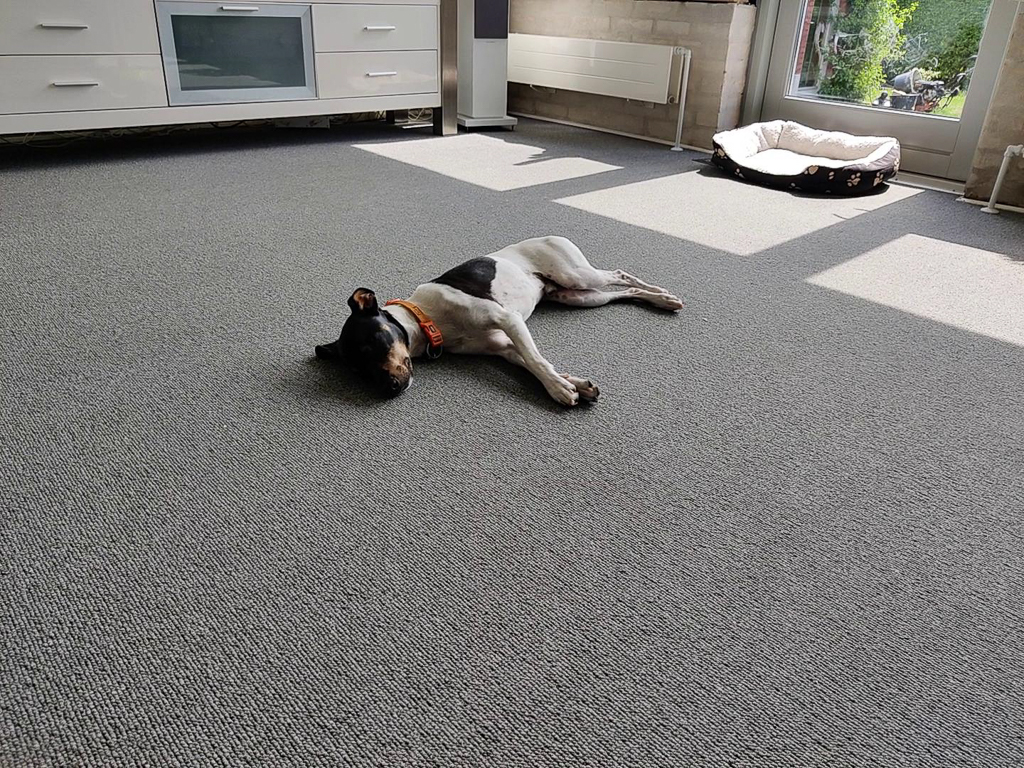Dog: (296, 224, 705, 432)
Humanoid: (869, 89, 897, 113)
